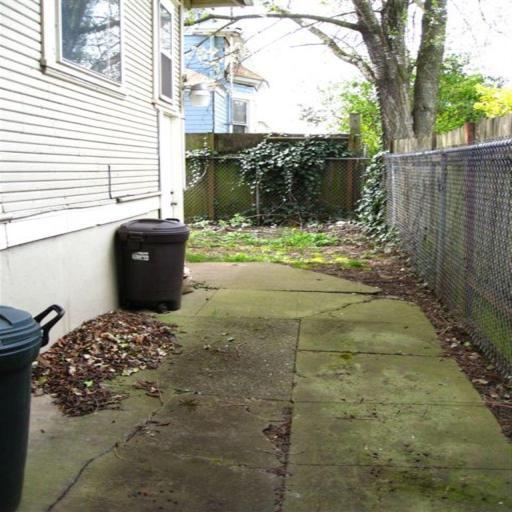trash-can: (106, 206, 196, 326)
